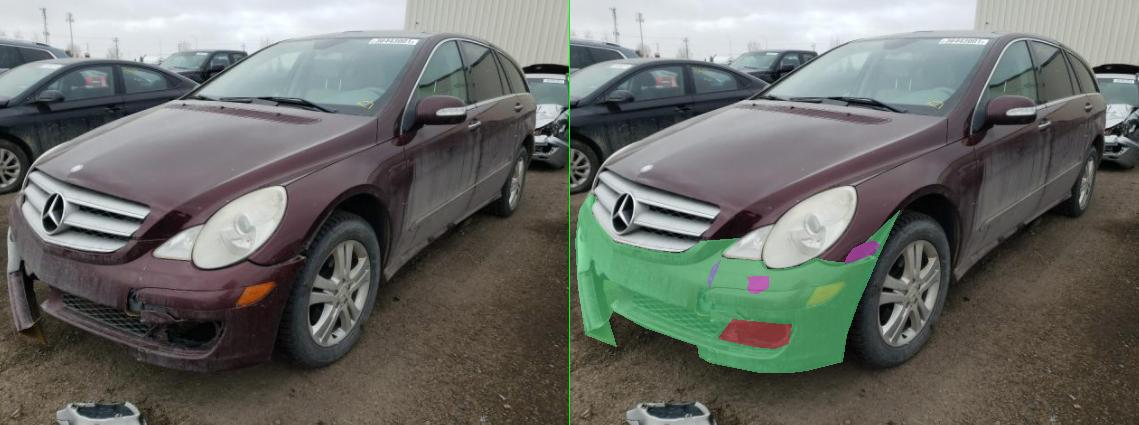Broken part: (10, 193, 659, 372)
Dent: (550, 241, 619, 263), (354, 276, 396, 293)
Missing part: (296, 319, 442, 348)
Scratch: (276, 260, 300, 287)
